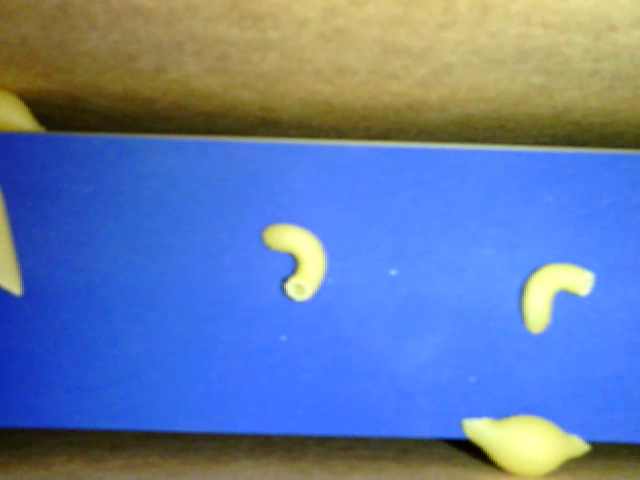elbow: (261, 221, 327, 303), (520, 262, 595, 334)
penne: (1, 181, 23, 298)
shell: (459, 409, 593, 478), (1, 88, 46, 132)
